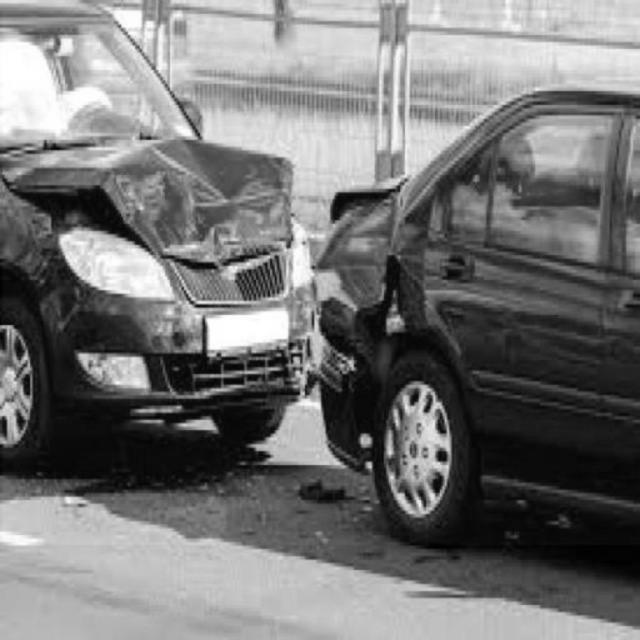accident: (3, 11, 640, 546)
